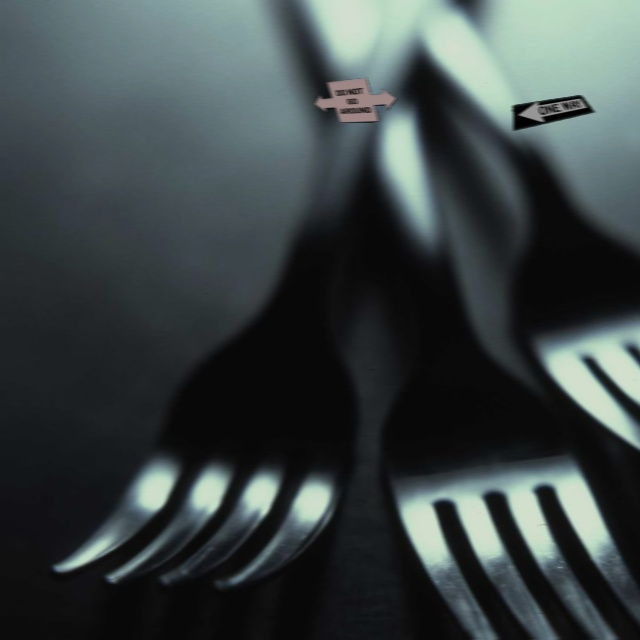DO_NOT_GO_AROUND: (312, 78, 395, 124)
ONE_WAY_ left: (510, 95, 593, 132)
